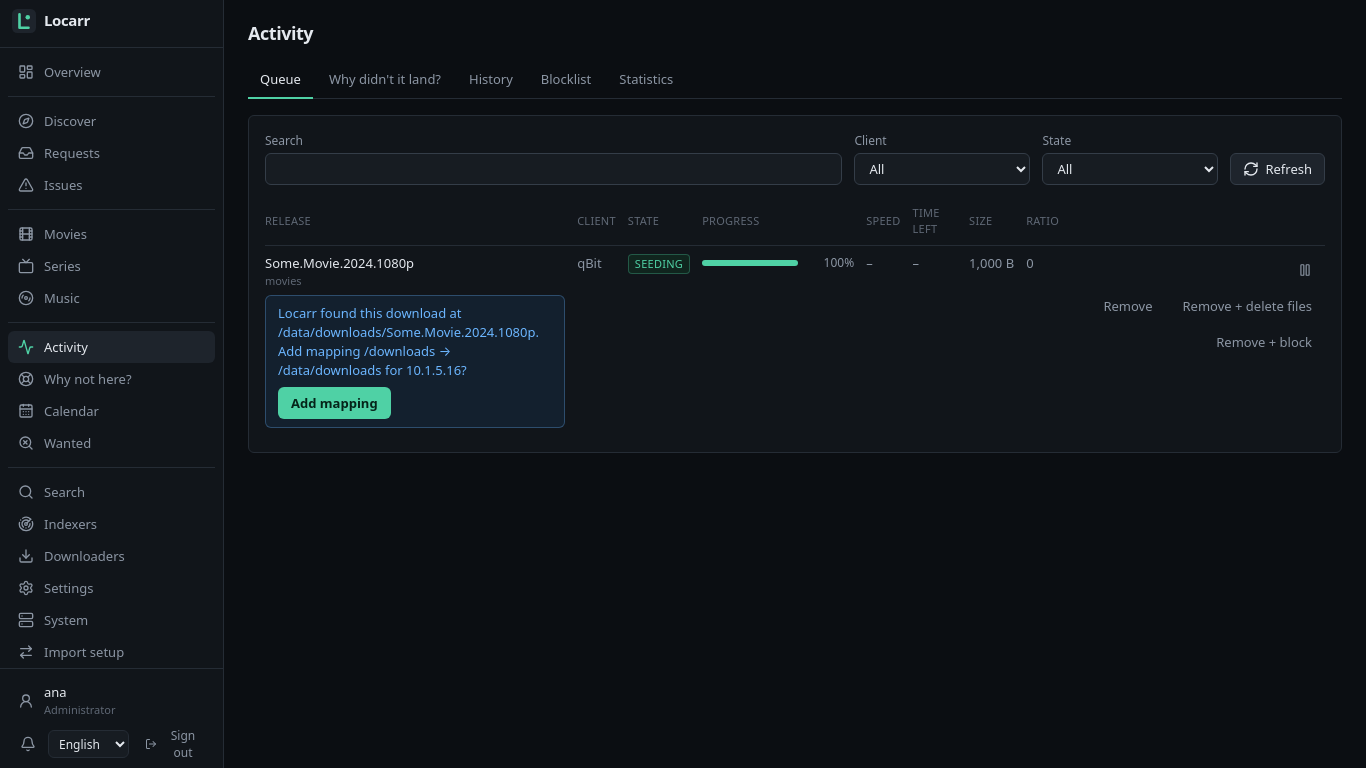
it: path mapping suggestions › offers the found mapping in the queue and adds it in one click
Expected: the element with test id "path-suggestion-1" shows "Locarr found this download at /data/downloads/Some.Movie.2024.1080p. Add mapping /downloads → /data/downloads for 10.1.5.16?", [278, 304, 539, 378]
Click the button "Add mapping" at x=334, y=403, box [278, 387, 391, 419]
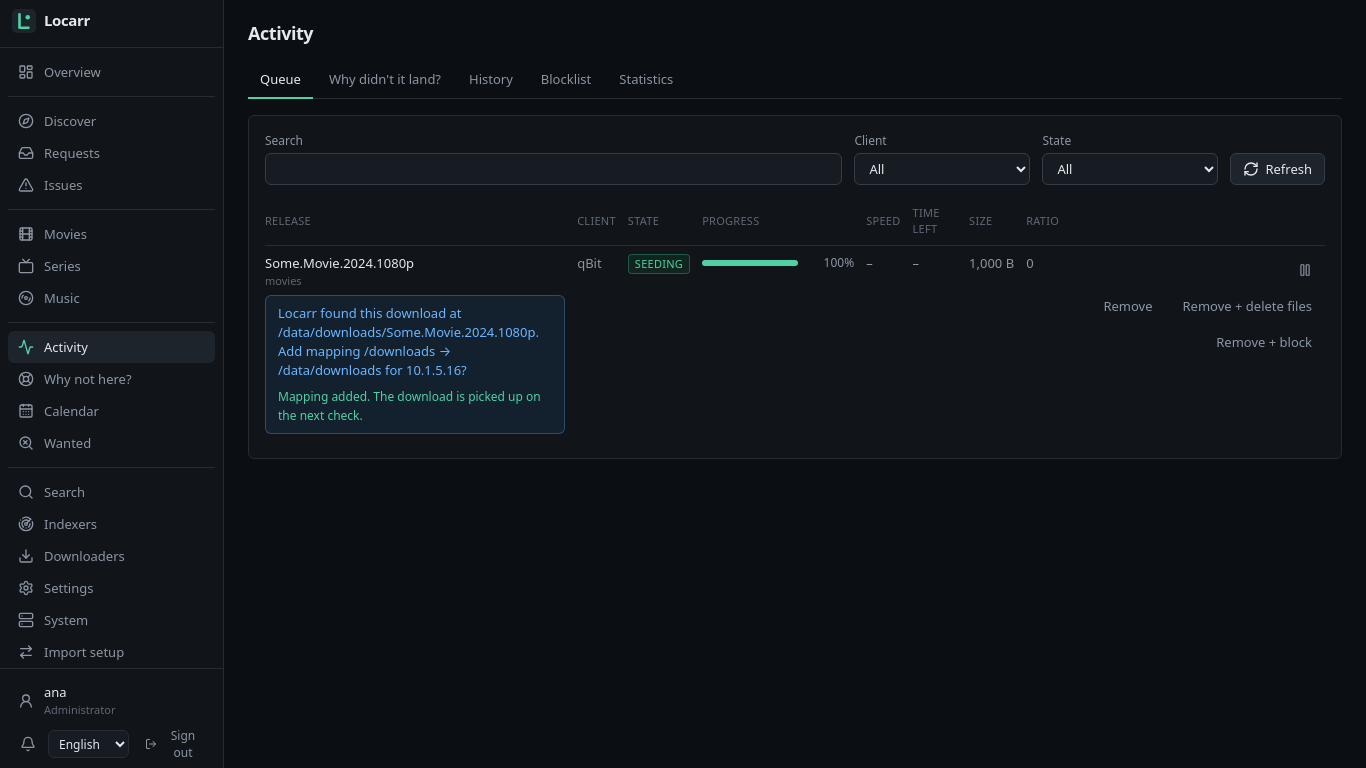
Now the text "Mapping added. The download is picked up on the next check." is shown, box [278, 388, 541, 424]
